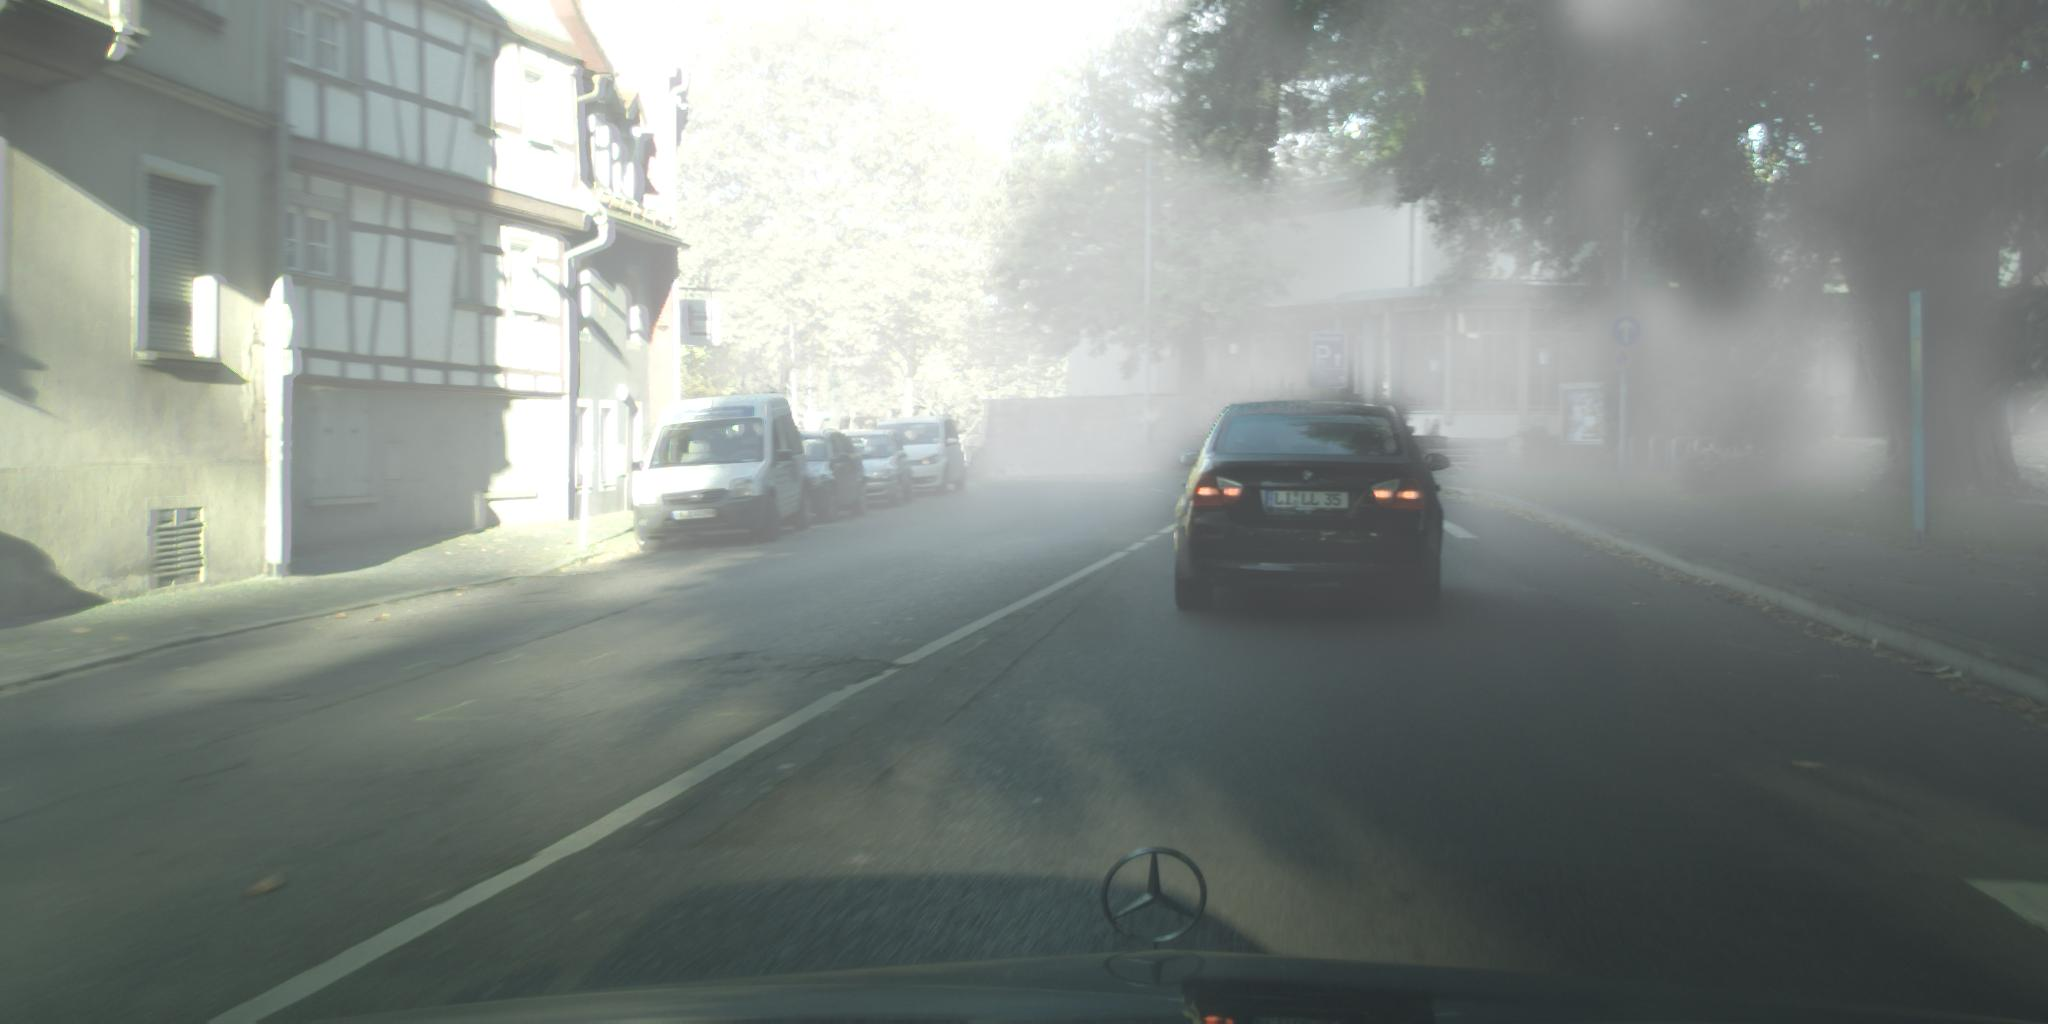car: (1174, 401, 1452, 614), (632, 394, 814, 552), (876, 418, 968, 498), (794, 428, 866, 525), (841, 431, 916, 507)
